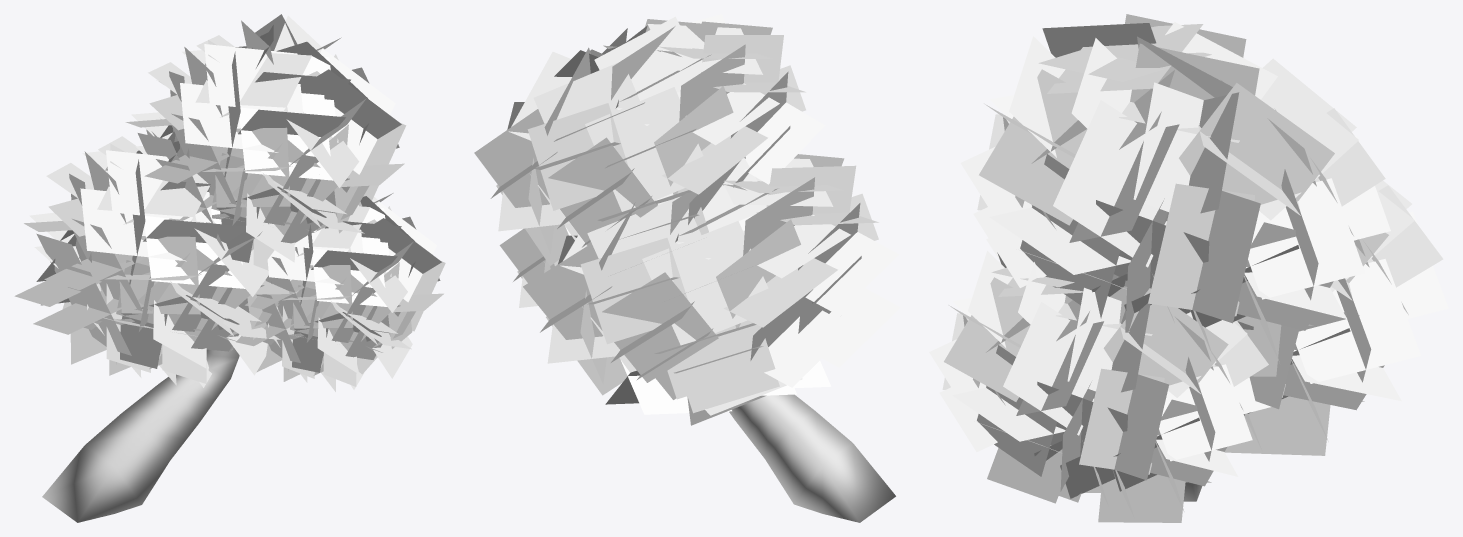
Rendered from purpleShrub1.fbx.
3 views of the same model, side by side, from view 1: azimuth 30°, elevation 25°; view 2: azimuth 150°, elevation 25°; view 3: azimuth 270°, elevation 25° (orthographic). The views are drawn at different scales.
Parts seen in each view (by area): view 1: Plane.135, Plane.136, Plane.137, Cube; view 2: Plane.136, Plane.135, Cube, Plane.137; view 3: Plane.135, Plane.137, Plane.136.
Boxes of the visible parts, x1=… form: Plane.135: x1=125, y1=14, x2=406, y2=280; Plane.136: x1=14, y1=129, x2=298, y2=387; Plane.137: x1=236, y1=193, x2=445, y2=391; Cube: x1=42, y1=346, x2=239, y2=522; Plane.136: x1=523, y1=154, x2=900, y2=425; Plane.135: x1=474, y1=14, x2=825, y2=265; Cube: x1=729, y1=394, x2=895, y2=522; Plane.137: x1=499, y1=228, x2=558, y2=307; Plane.135: x1=960, y1=14, x2=1390, y2=376; Plane.137: x1=929, y1=251, x2=1271, y2=522; Plane.136: x1=986, y1=181, x2=1448, y2=455.
Bounding box in the file's own units: 294 × 330 × 281.
